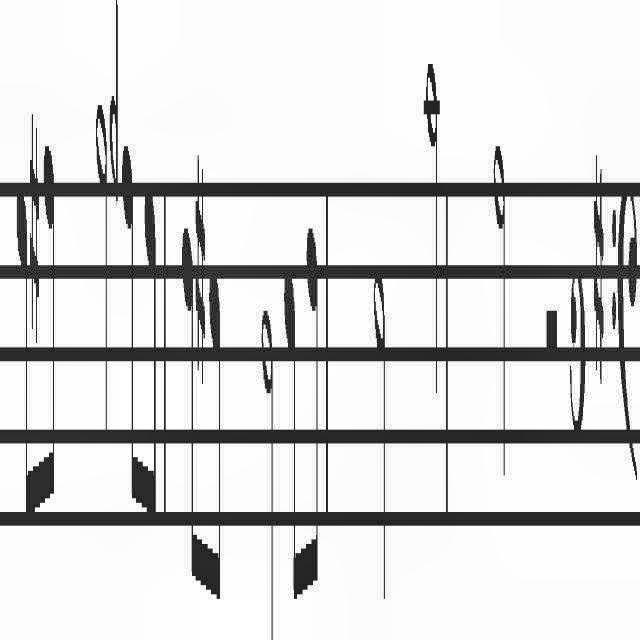Bemol: (108, 0, 120, 210)
Diez: (28, 109, 42, 355), (194, 148, 206, 404), (592, 146, 604, 398)
Eighth-note: (303, 198, 321, 614), (282, 247, 302, 616), (120, 129, 136, 535), (206, 264, 224, 612), (180, 213, 196, 602), (43, 129, 57, 546), (14, 164, 28, 578), (144, 173, 158, 539)
Half-note: (424, 45, 440, 408), (492, 130, 508, 492), (370, 255, 386, 610), (261, 288, 275, 640), (95, 90, 108, 462)
